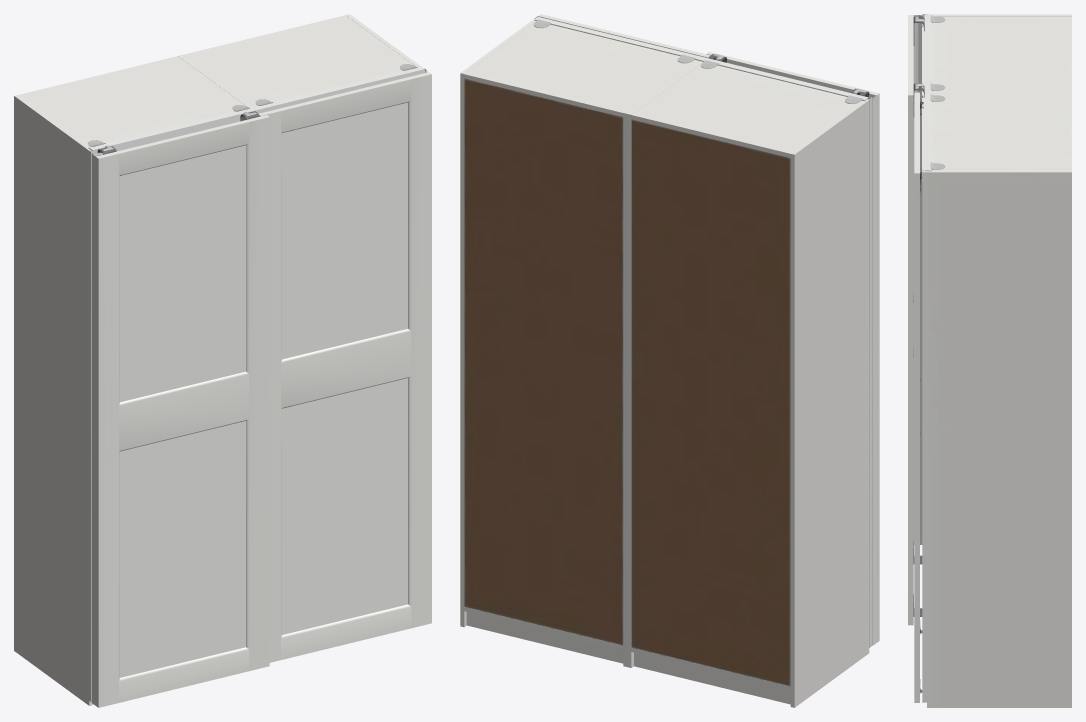
File: pax_grimo_szafa_59502373.glb
3 renders of one model, left to right at view 1: azimuth 30°, elevation 25°; view 2: azimuth 150°, elevation 25°; view 3: azimuth 270°, elevation 25°, orthographic. The views are drawn at different scales.
Visible parts, largest first — view 1: pax_grimo_szafa_59502373; view 2: pax_grimo_szafa_59502373; view 3: pax_grimo_szafa_59502373.
Boxes of the visible parts, x1,y1,x2,y2 form: pax_grimo_szafa_59502373: [14, 14, 431, 707]; pax_grimo_szafa_59502373: [460, 14, 879, 707]; pax_grimo_szafa_59502373: [908, 14, 1071, 707].
Bounding box in the file's own units: 1.5 × 2.38 × 0.6559.
Materials: 1 (1 with a texture image).
